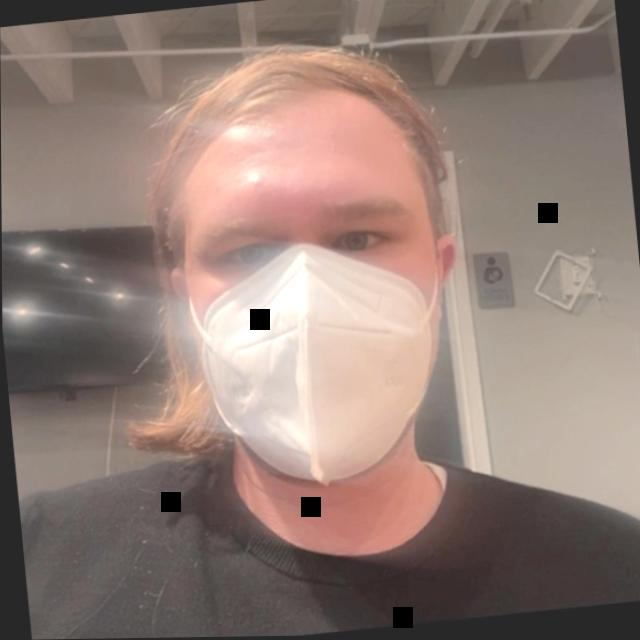Mask: (89, 15, 537, 589)
